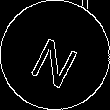N_NE: (26, 23, 84, 87)
